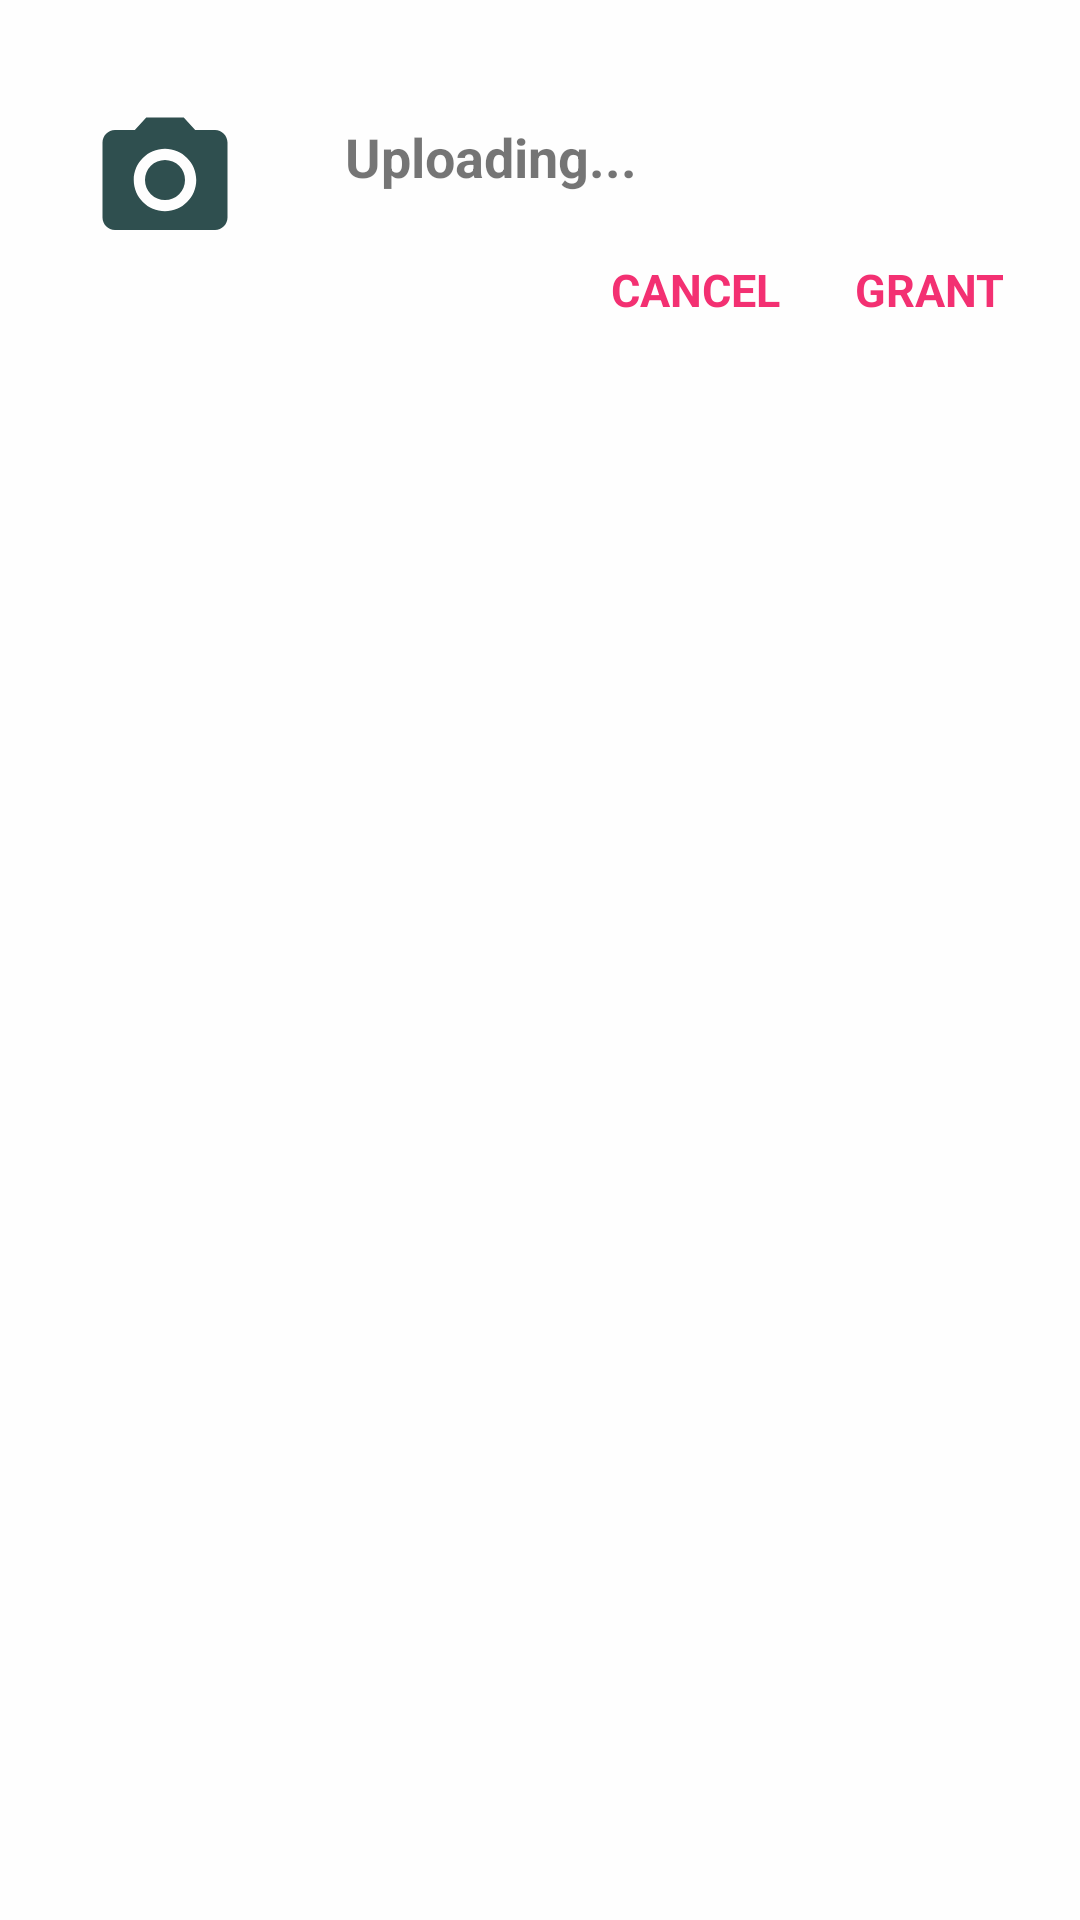

Screen size 1080w x 1920h. Icon name, then its center in pixels as (x=x, y=y):
camera chat: (x=165, y=173)
